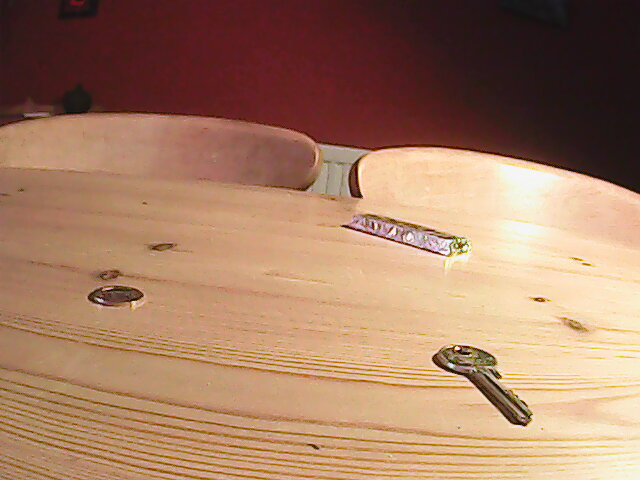Coin: (82, 282, 148, 309)
Foil: (347, 209, 474, 258)
Key: (435, 343, 536, 429)
